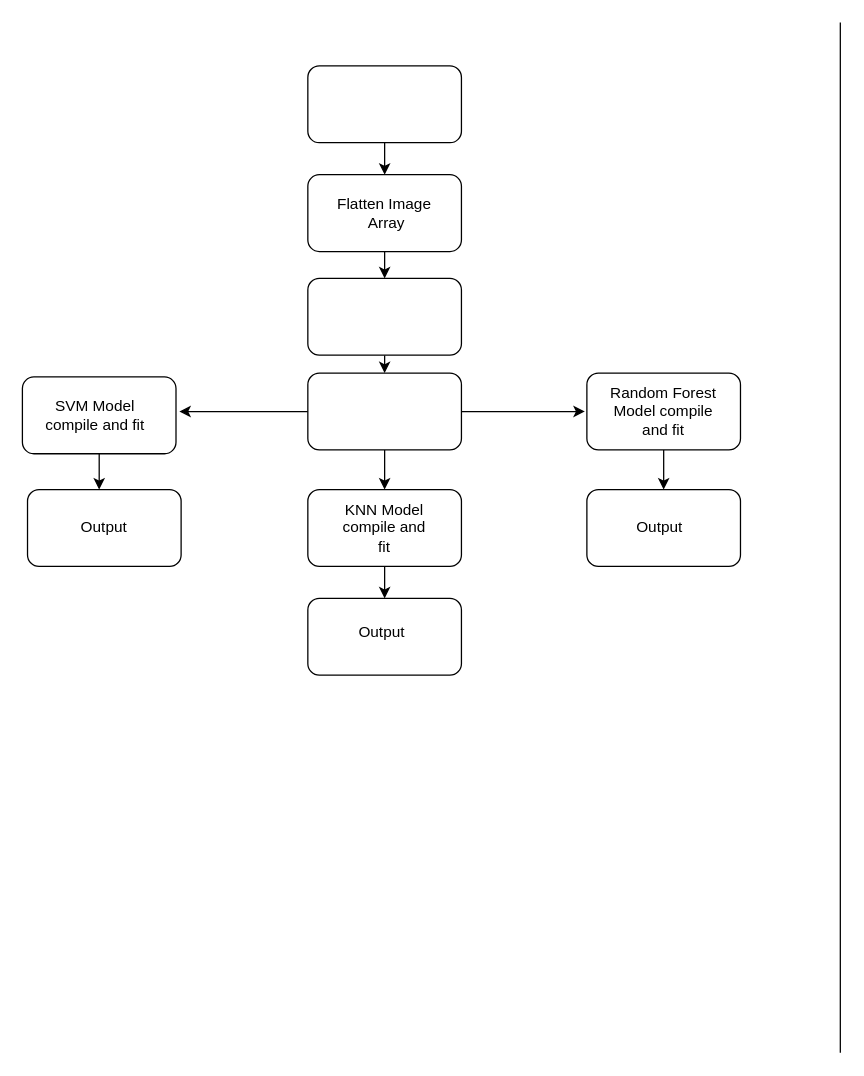
Image size: 864x1076. Some labels were removed from this diagram. Here are the shapes that lost their labels. From the top down, the centre of each, then its label:
[384,104]: Importing Dataset and Stack Data
[384,316]: Data Normalization
[384,411]: Feature Extraction
